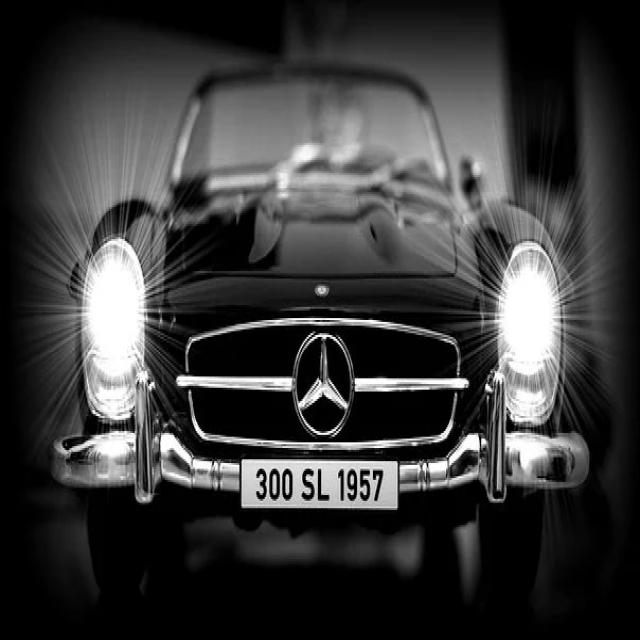Car: (49, 55, 593, 525)
